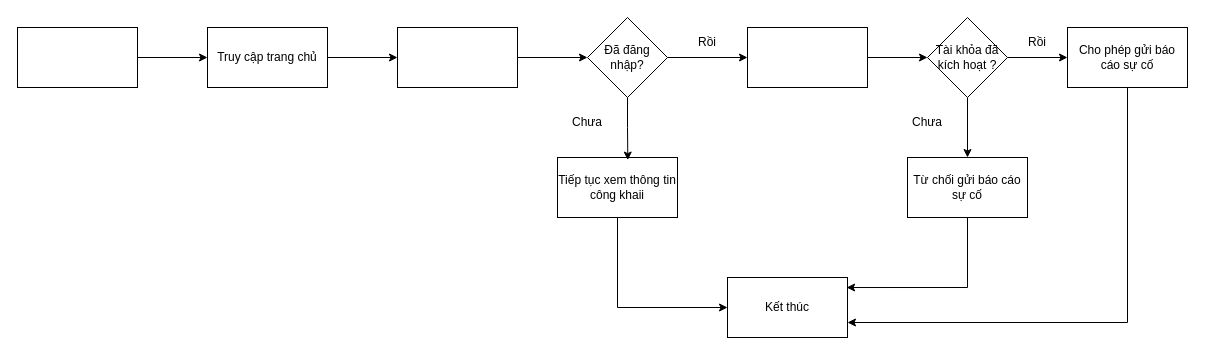
Image size: 1205x355. Some labels were removed from this diagram. Each missing label, with the centre of its shape:
"Khách hàng" belongs at [77,57].
"Truy cập các chức năng hội viên" belongs at [807,57].
"Xem thông tin công khai" belongs at [457,57].
